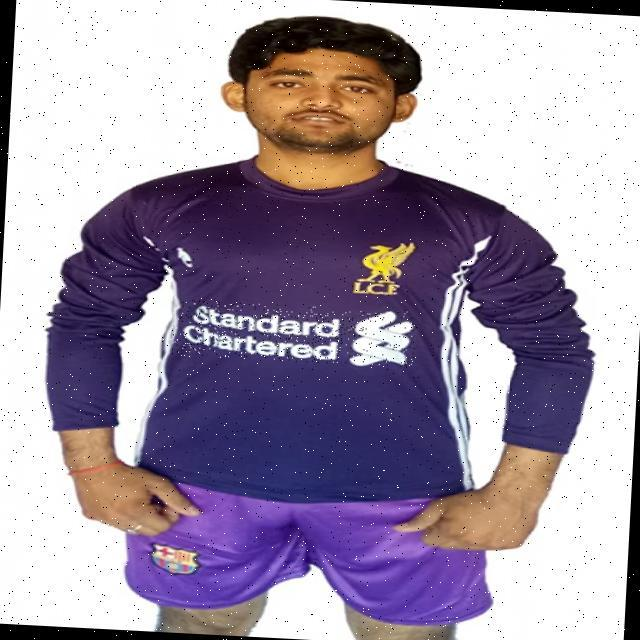Standard Chartered: (172, 299, 416, 368)
